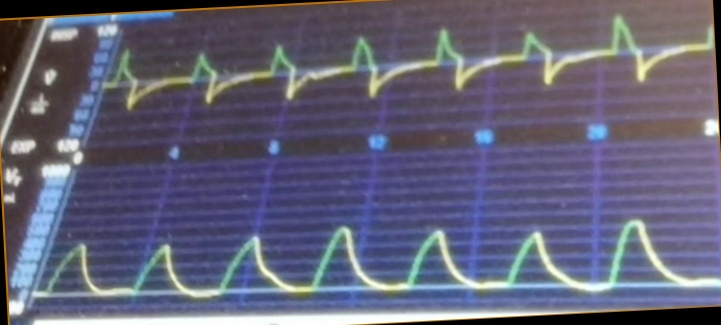Premature_cycling Flow: (114, 15, 714, 116)
Premature_cycling Volume: (44, 218, 717, 305)
